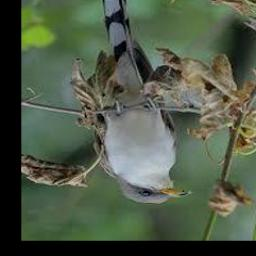Cuckoo: (95, 0, 192, 205)
